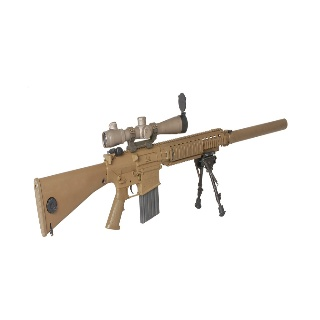rifle: (32, 89, 290, 240)
